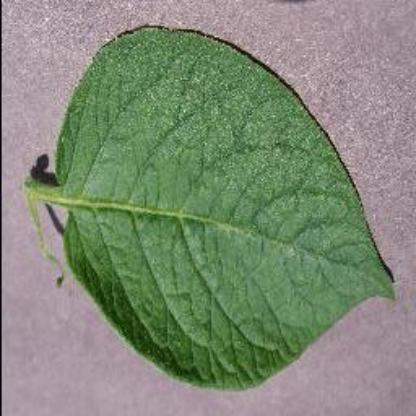Healthy-plant: (20, 20, 408, 398)
